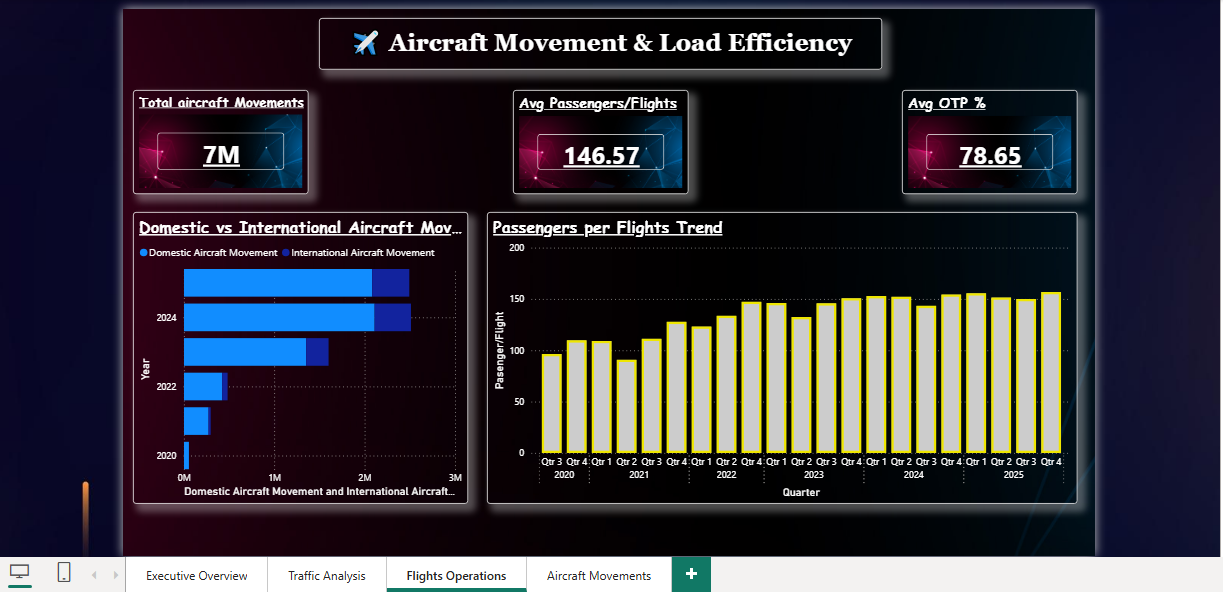

The page's visual inventory and layout, read from the dashboard file:
{"tool":"powerbi","page":{"name":"Flights Operations","canvas":[1280,720],"ordinal":2},"visuals":[{"type":"barChart","title":"Domestic vs International Aircraft Movements","fields":{"Y":["fact daily traffic.Domestic Aircraft Movement","fact daily traffic.International Aircraft Movement"],"Category":["fact daily traffic.Date.Variation.Date Hierarchy.Year","fact daily traffic.Date.Variation.Date Hierarchy.Quarter","fact daily traffic.Date.Variation.Date Hierarchy.Month","fact daily traffic.Date.Variation.Date Hierarchy.Day"]},"box":[12.8,266.5,440.8,384.1],"z":0},{"type":"cardVisual","title":"Avg Passengers/Flights","fields":{"Data":["fact daily traffic.Pasenger/Flight"]},"box":[513.1,106.3,231,137.5],"z":1000},{"type":"clusteredColumnChart","title":"Passengers per Flights Trend ","fields":{"Y":["fact daily traffic.Pasenger/Flight"],"Category":["fact daily traffic.Date.Variation.Date Hierarchy.Year","fact daily traffic.Date.Variation.Date Hierarchy.Quarter","fact daily traffic.Date.Variation.Date Hierarchy.Month","fact daily traffic.Date.Variation.Date Hierarchy.Day"]},"box":[479.1,266.5,776.7,384.1],"z":2000},{"type":"cardVisual","title":"Total aircraft Movements","fields":{"Data":["fact daily traffic.Total Aircraft Movement"]},"box":[12.8,106.3,231,137.5],"z":3000},{"type":"textbox","box":[258,11.3,741.3,68],"z":4000},{"type":"cardVisual","title":"Avg OTP %","fields":{"Data":["fact daily traffic.AVG OTP All Air"]},"box":[1024.7,106.3,231,137.5],"z":5000}]}

Visuals, with their boxes on the page's 1280x720 design canvas (x1, y1, x2, y2). These are canvas units, not pixel positions in the 1223x592 screenshot, which may show the page scaled, cropped or inside an application window:
"Domestic vs International Aircraft Movements" barChart: Rect(13, 266, 454, 651)
"Avg Passengers/Flights" cardVisual: Rect(513, 106, 744, 244)
"Passengers per Flights Trend " clusteredColumnChart: Rect(479, 266, 1256, 651)
"Total aircraft Movements" cardVisual: Rect(13, 106, 244, 244)
textbox: Rect(258, 11, 999, 79)
"Avg OTP %" cardVisual: Rect(1025, 106, 1256, 244)
